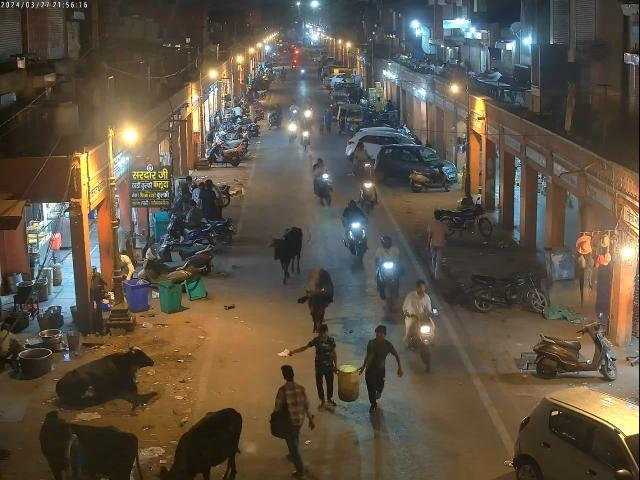car: (513, 384, 640, 480), (373, 144, 458, 183)
cattle: (36, 407, 146, 480), (54, 342, 157, 407), (152, 407, 242, 480), (298, 266, 334, 334), (268, 224, 304, 282)
helmet: (380, 234, 392, 250), (347, 200, 357, 211)
motorbike: (469, 264, 549, 314), (438, 198, 494, 238)
motorbike-rider: (402, 280, 439, 371)
no_helmet: (417, 281, 426, 296), (364, 165, 372, 173), (318, 158, 324, 166)
person: (269, 363, 315, 480), (358, 324, 404, 412), (290, 324, 338, 408), (428, 210, 448, 280)
scooty: (534, 313, 619, 380), (136, 246, 193, 290), (158, 233, 214, 274), (408, 161, 453, 192), (207, 142, 244, 169)
scooty-rider: (162, 200, 214, 244), (373, 233, 404, 305), (342, 199, 369, 262), (312, 158, 334, 204), (358, 165, 379, 212)
